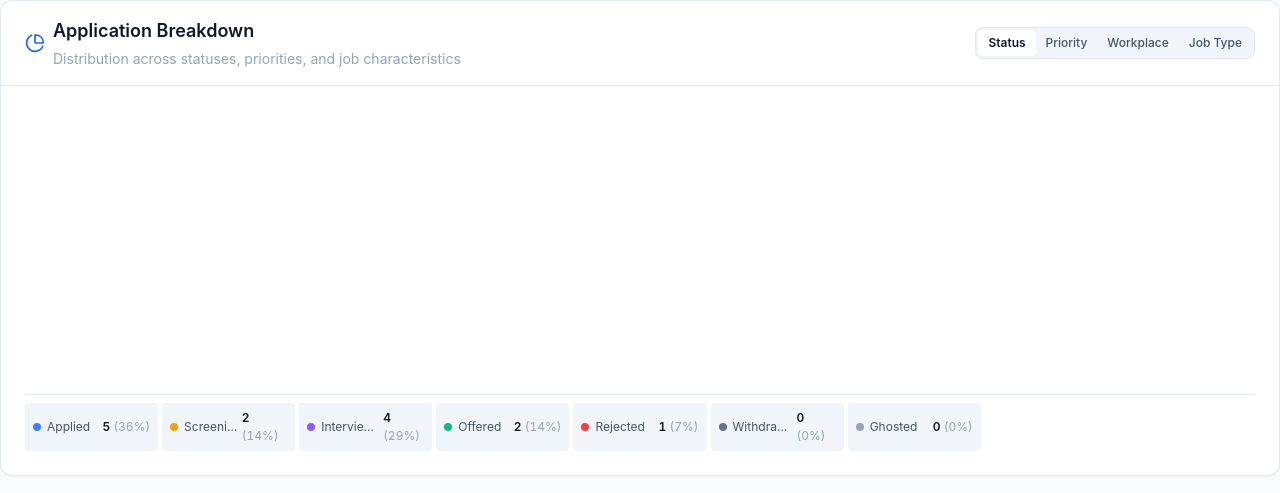
Test: StatusBreakdownChart Component (Phase 6.5F) › switches dimensions when tabs are clicked
Note: Click Priority tab
What coordinates should you click on to do the following:
click the tab with test id "dimension-tab-byPriority"
I would click on:
 (1066, 43)
Its box is [1036,30,1097,56].
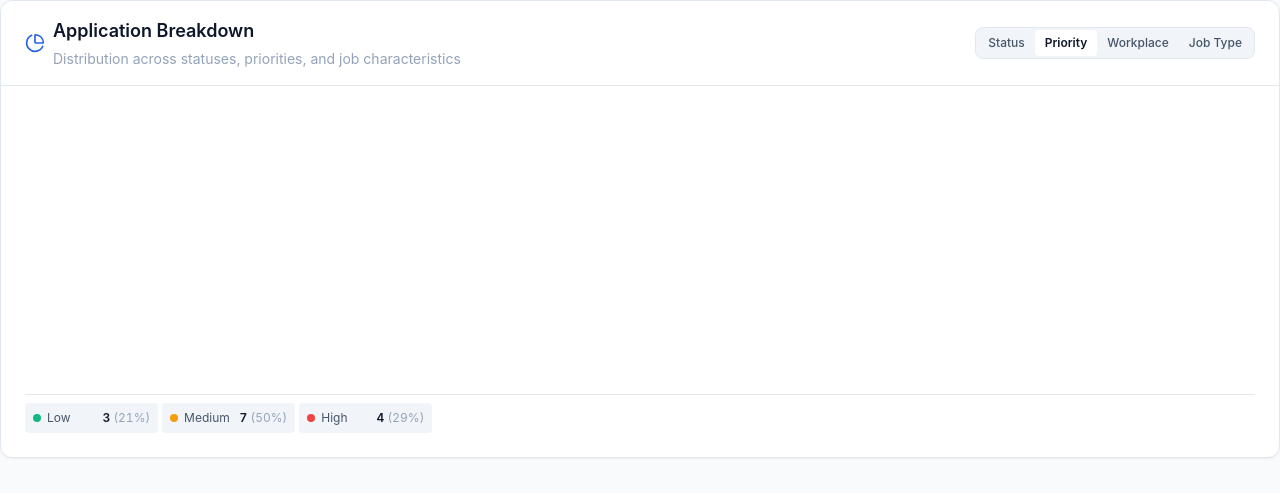
Expected: the text "High" is shown, [321,409,348,427]
Expected: the text "Medium" is shown, [184,409,230,427]
Expected: the text "Low" is shown, [47,409,71,427]
Note: Click Workplace tab
What coordinates should you click on to do the following:
click the tab with test id "dimension-tab-byWorkplaceType"
I would click on:
 (1138, 43)
Its box is [1097,30,1179,56].
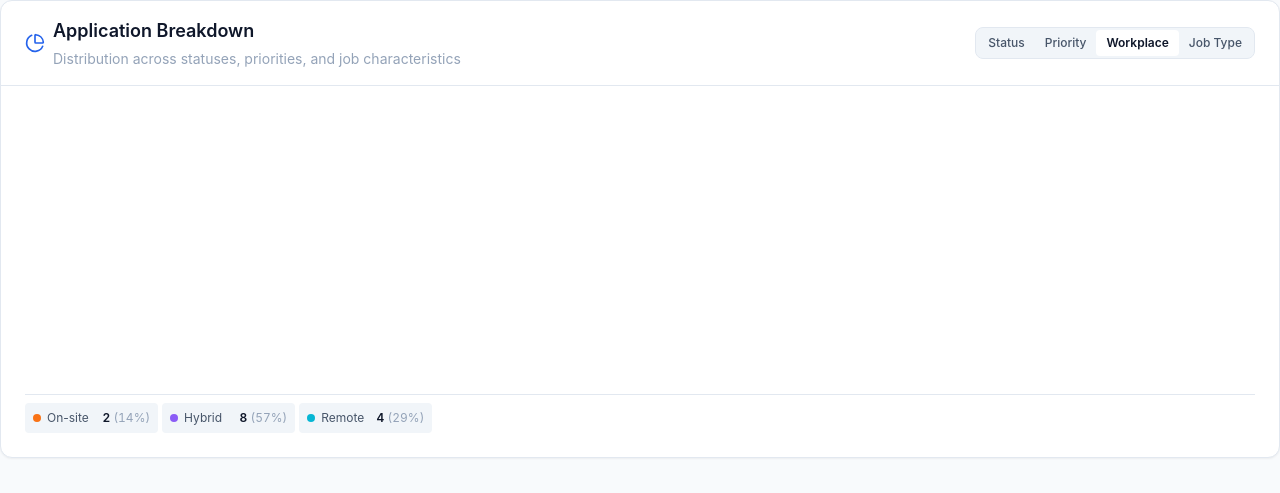
Expected: the text "Remote" is shown, [321,409,364,427]
Expected: the text "Hybrid" is shown, [184,409,222,427]
Expected: the text "On-site" is shown, [47,409,89,427]
Note: Click Job Type tab
What coordinates should you click on to do the following:
click the tab with test id "dimension-tab-byJobType"
I would click on:
 (1215, 43)
Its box is [1179,30,1252,56].
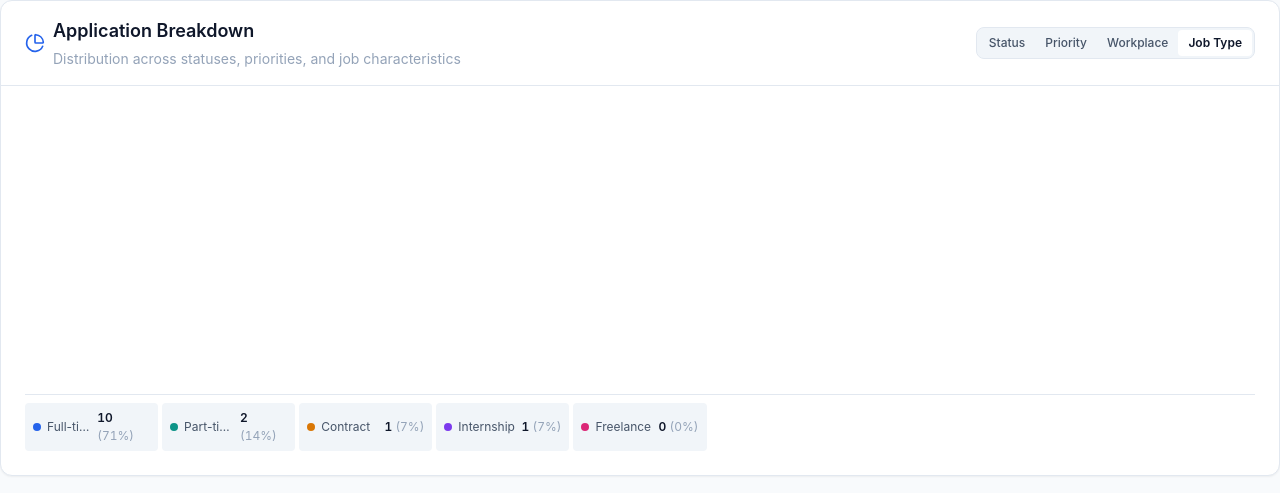
Expected: the text "Full-time" is shown, [47,418,93,436]
Expected: the text "Contract" is shown, [321,418,370,436]
